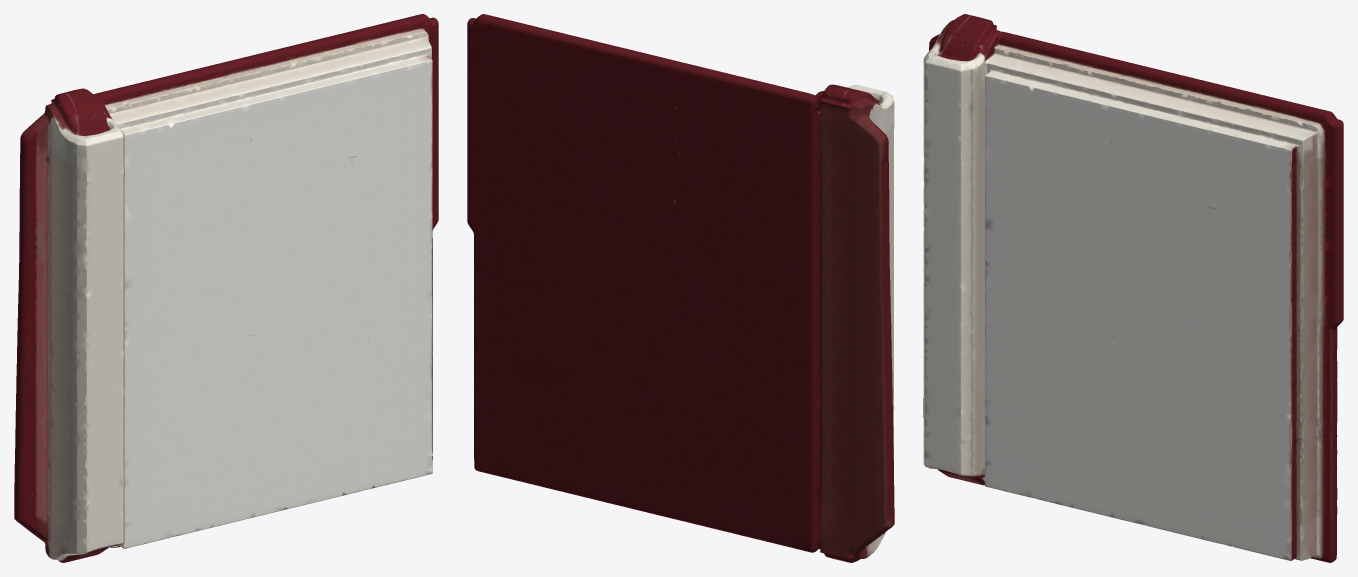
Rendered from TaxCodeBook.fbx.
The picture shows the model from 3 angles, left to right: view 1: azimuth 30°, elevation 25°; view 2: azimuth 150°, elevation 25°; view 3: azimuth 330°, elevation 25°; orthographic projection.
Visible parts, largest first — view 1: mesh_node; view 2: mesh_node; view 3: mesh_node.
Boxes of the visible parts, box(x1,y1,x2,y2) form: mesh_node: box(14, 14, 438, 562); mesh_node: box(467, 14, 894, 562); mesh_node: box(923, 14, 1343, 562).
Bounding box in the file's own units: 180 × 190 × 29.47.
Materials: 1 (1 with a texture image).
